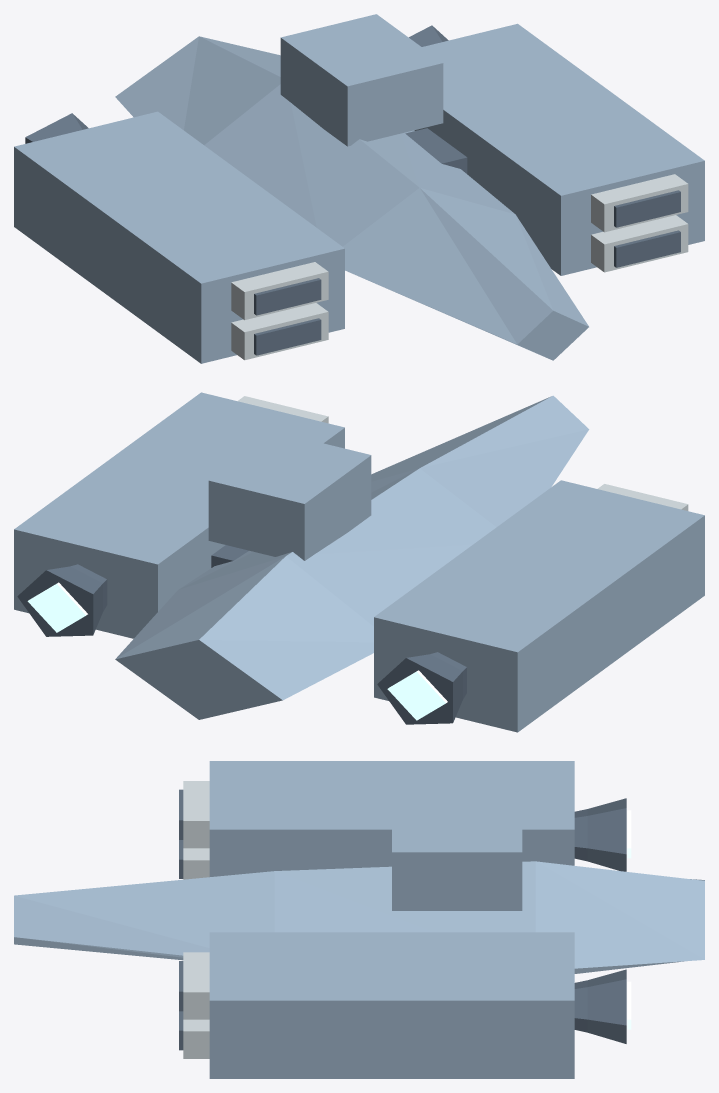
The picture shows the model from 3 angles, top to bottom: view 1: azimuth 30°, elevation 25°; view 2: azimuth 150°, elevation 25°; view 3: azimuth 270°, elevation 25°; orthographic projection. The views are drawn at different scales.
Bounding box in the file's own units: 7.88 × 2.55 × 9.6.
